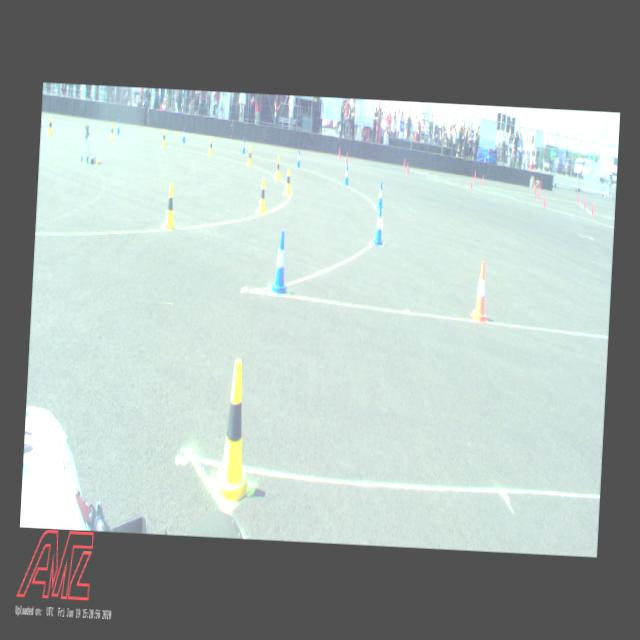blue_cone: (270, 230, 292, 296), (374, 206, 386, 245), (376, 182, 384, 209), (344, 164, 349, 186), (296, 150, 302, 168), (116, 118, 122, 134), (182, 127, 186, 143), (242, 138, 246, 154)
orange_cone: (471, 262, 492, 322)
unknown_cone: (590, 202, 594, 216), (338, 147, 342, 159), (543, 194, 546, 208), (345, 152, 348, 166), (470, 175, 473, 189), (406, 163, 409, 176), (583, 197, 586, 209), (537, 189, 540, 201), (576, 192, 579, 204), (403, 158, 406, 169), (482, 178, 484, 188)
yellow_cone: (213, 358, 259, 508), (162, 183, 178, 230), (256, 178, 268, 214), (284, 168, 292, 195), (274, 156, 282, 180), (47, 116, 54, 135), (247, 146, 253, 166), (208, 137, 214, 156), (162, 129, 168, 147), (109, 122, 115, 140)
